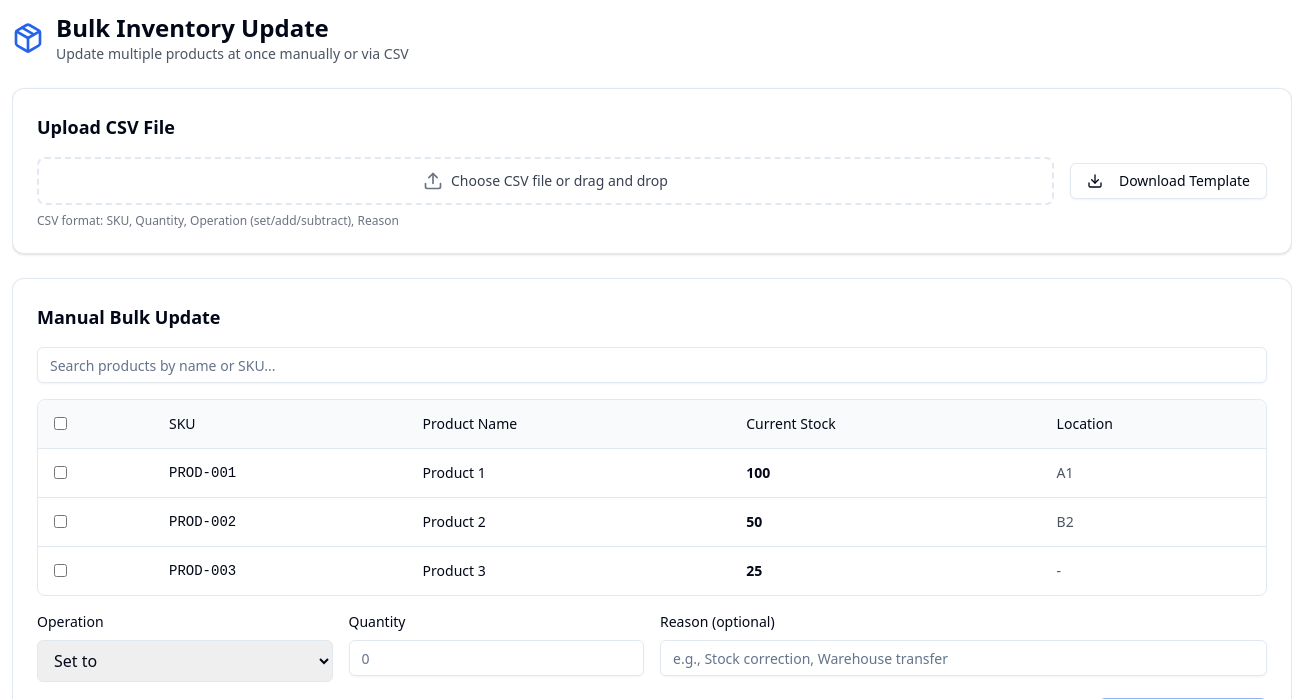
Test: BulkInventoryUpdate › allows selecting all items
Click the checkbox with test id "select-all-checkbox" at (60, 424), box 54,417 -> 67,430
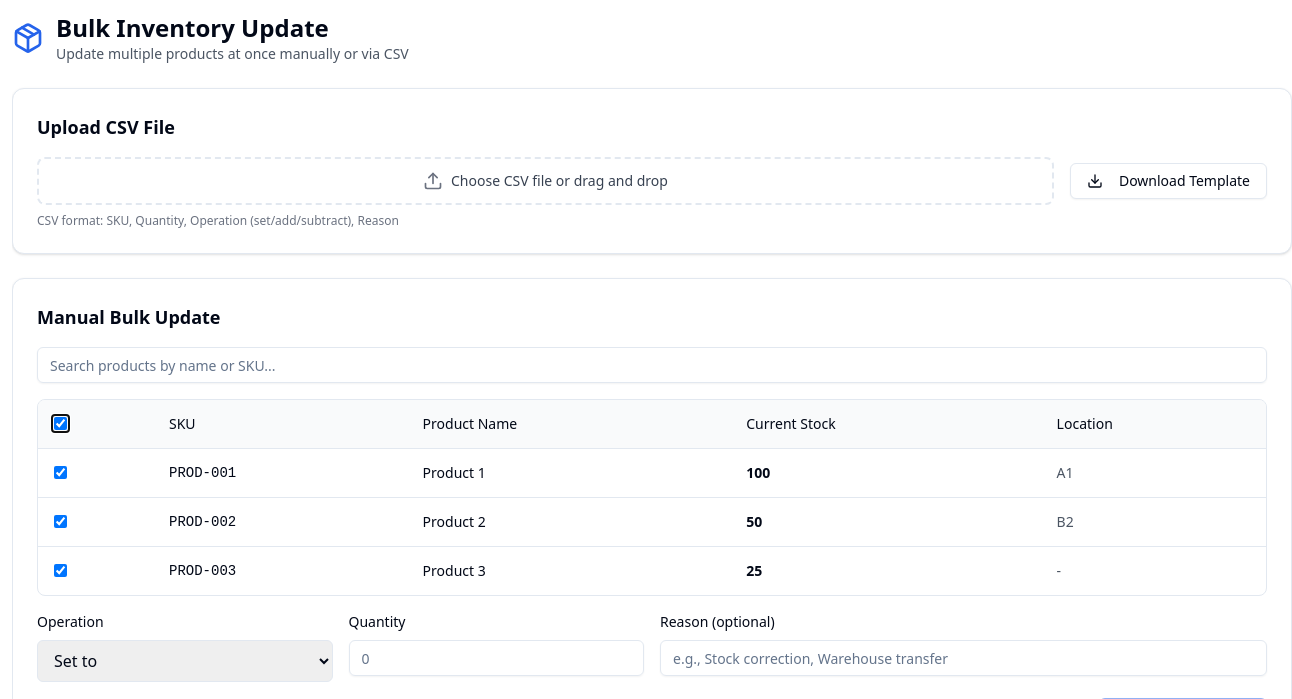
Result: the checkbox with test id "checkbox-1" is checked at 54,466 -> 67,479
Result: the checkbox with test id "checkbox-2" is checked at 54,515 -> 67,528
Result: the checkbox with test id "checkbox-3" is checked at 54,564 -> 67,577
